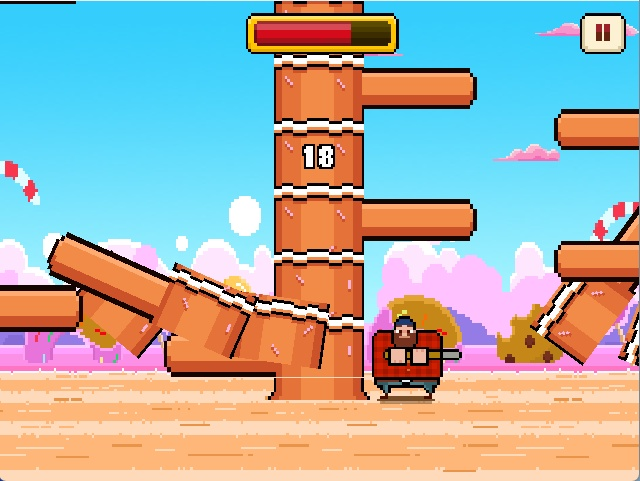right_obs: (355, 195, 484, 246), (359, 62, 480, 112)
timberman: (369, 311, 466, 404)
